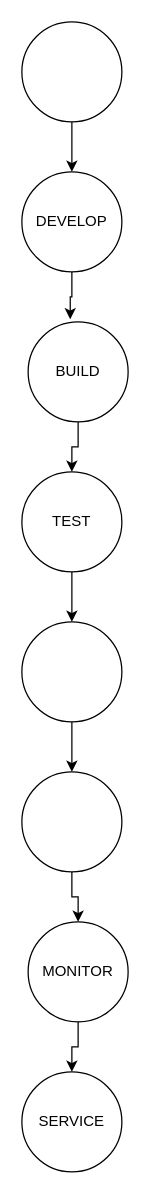
This 150x1194 diagram has some shape labels left out. The shapes that lost their labels are listed below. From the top down, each one's centre as x and y in pixels, then its label:
At point (71, 71): "PLAN".
At point (71, 671): "RELEASE".
At point (71, 821): "DEPLOY".
